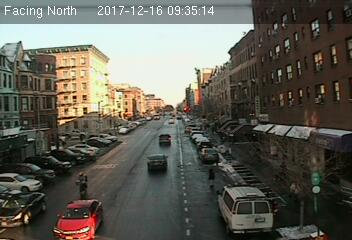bicycle: (74, 172, 89, 195)
car: (53, 195, 103, 240), (1, 192, 47, 227), (144, 153, 168, 170), (199, 147, 219, 163), (157, 133, 172, 144)
pedestrian: (209, 169, 216, 189)
police: (215, 181, 278, 236)
